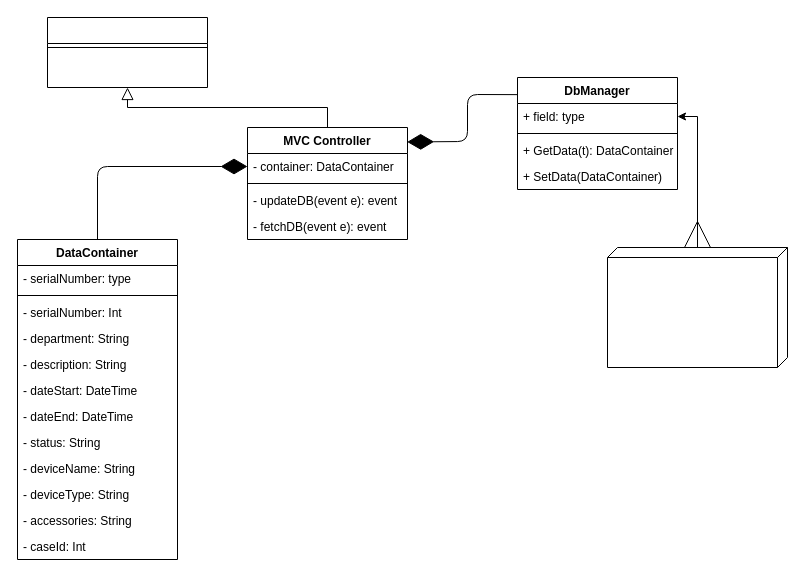
Some shapes in this 805 by 580 pixel diagram are drawn without their labels. Each missing label, with the centre of its shape:
"Database" goes at pixel 697 307.
"GUI" goes at pixel 127 52.
